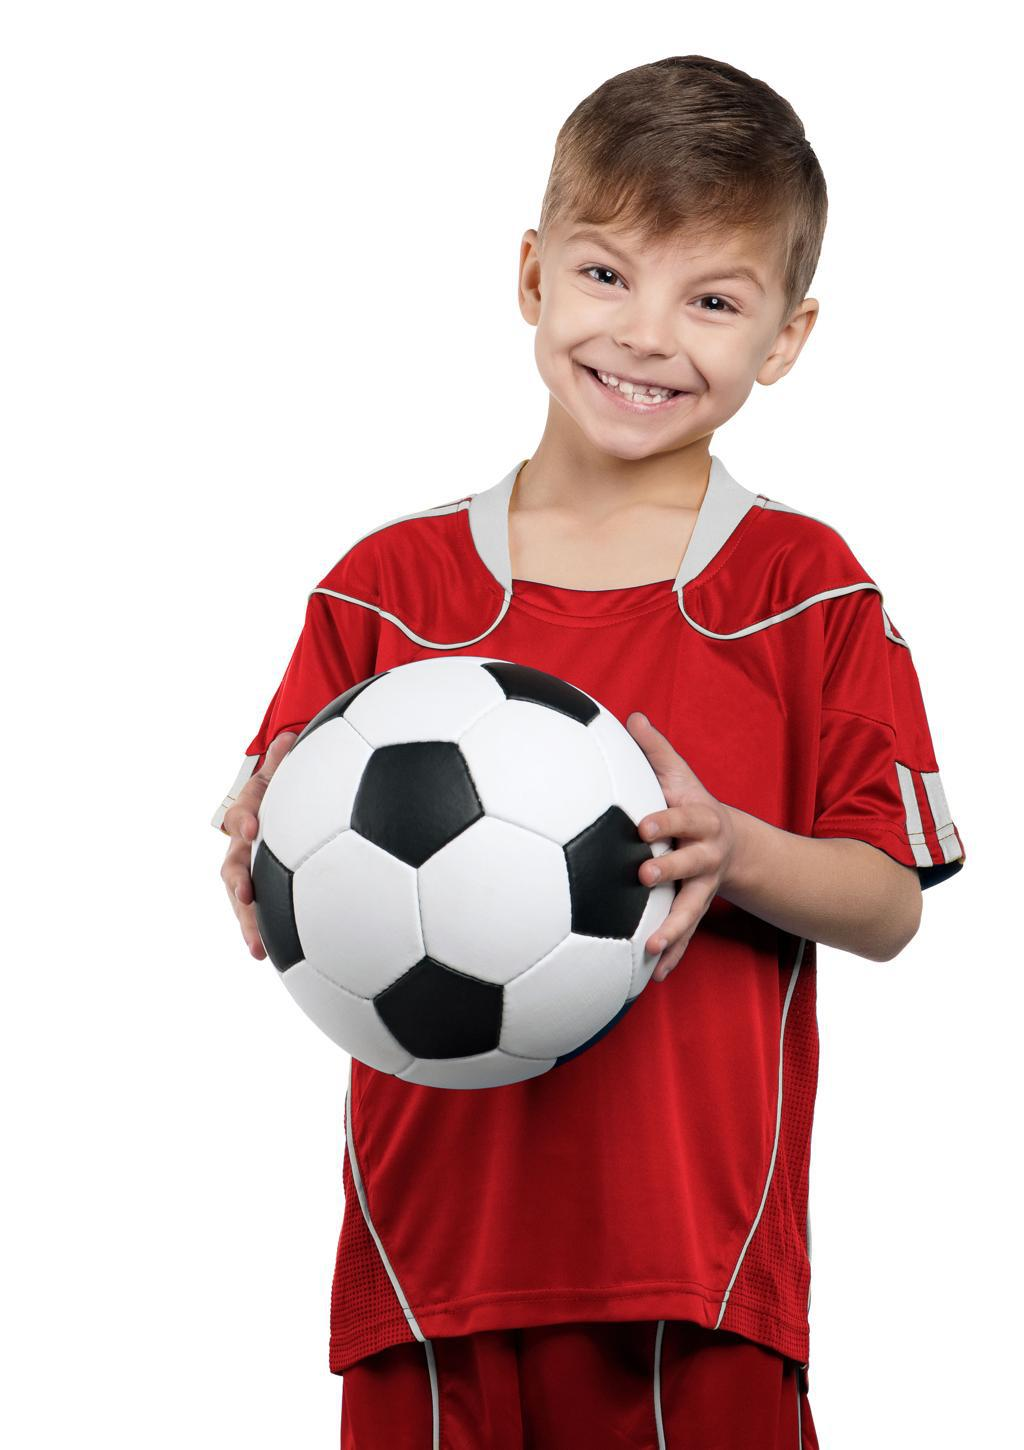face: (541, 165, 781, 456)
